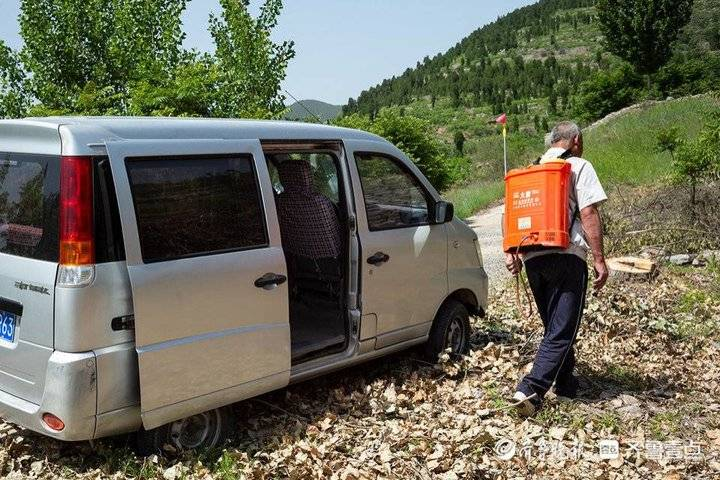berrl: (501, 158, 575, 254)
